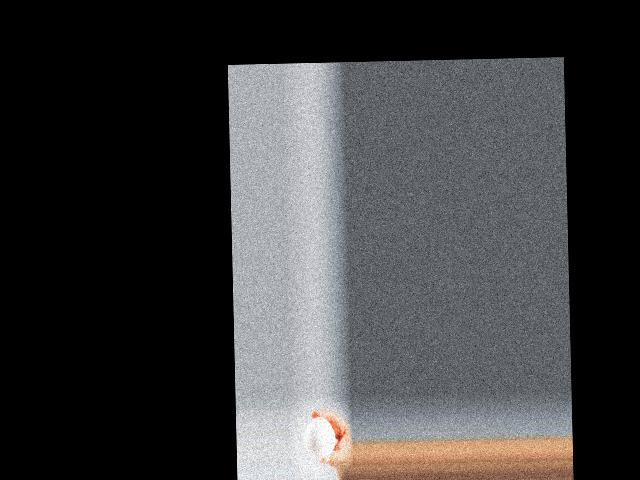egg: (304, 416, 334, 458)
